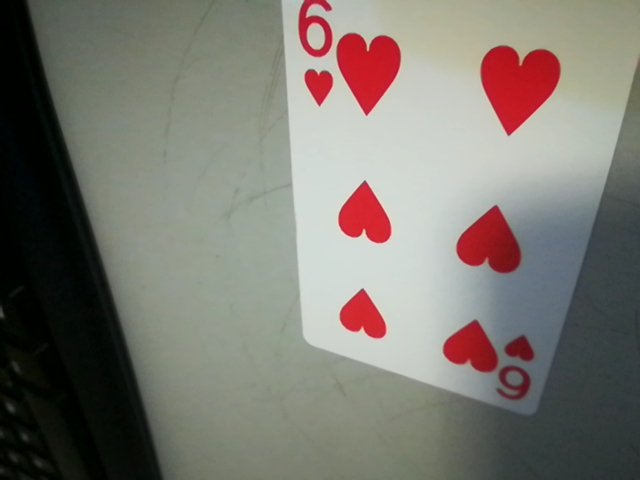hx 6: (285, 0, 342, 114), (489, 331, 547, 411)
